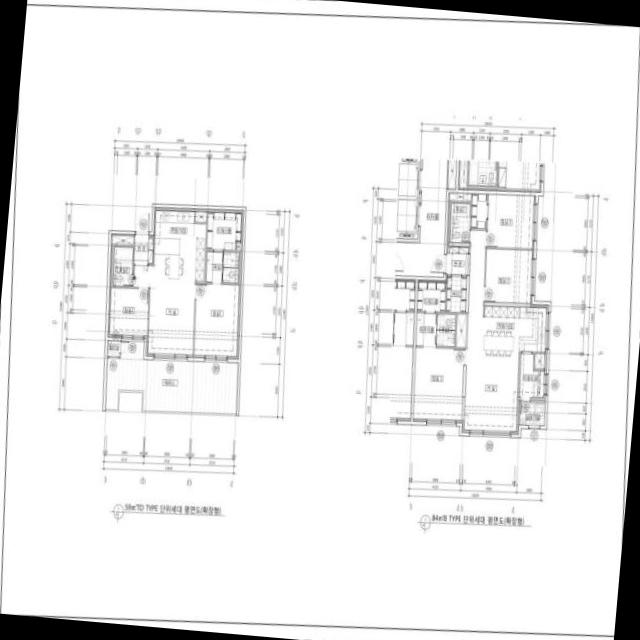background: (0, 0, 640, 640)
space_bedroom: (413, 347, 464, 422), (194, 284, 240, 359), (486, 194, 535, 248), (485, 249, 533, 303), (108, 288, 148, 338)
space_dressroom: (207, 209, 243, 250), (417, 280, 446, 311), (471, 193, 487, 228)
space_elevator: (396, 197, 418, 239), (397, 158, 420, 197)
space_elevator_hall: (394, 159, 447, 277)
space_front: (446, 246, 469, 274), (134, 235, 153, 265)
space_kitchen: (153, 207, 206, 282), (483, 304, 548, 357)
space_living_room: (462, 230, 519, 434), (133, 265, 195, 357)
space_multipurpose_space: (518, 353, 546, 400)
space_other: (446, 276, 466, 312), (456, 314, 466, 347), (111, 234, 133, 245), (448, 160, 456, 189), (448, 193, 471, 201), (534, 353, 546, 368), (195, 209, 206, 222), (236, 243, 242, 250)
space_outdoor_room: (519, 402, 545, 425), (107, 340, 120, 356)
space_toilet: (415, 312, 455, 346), (205, 251, 239, 284), (449, 202, 470, 243), (112, 246, 133, 286)
